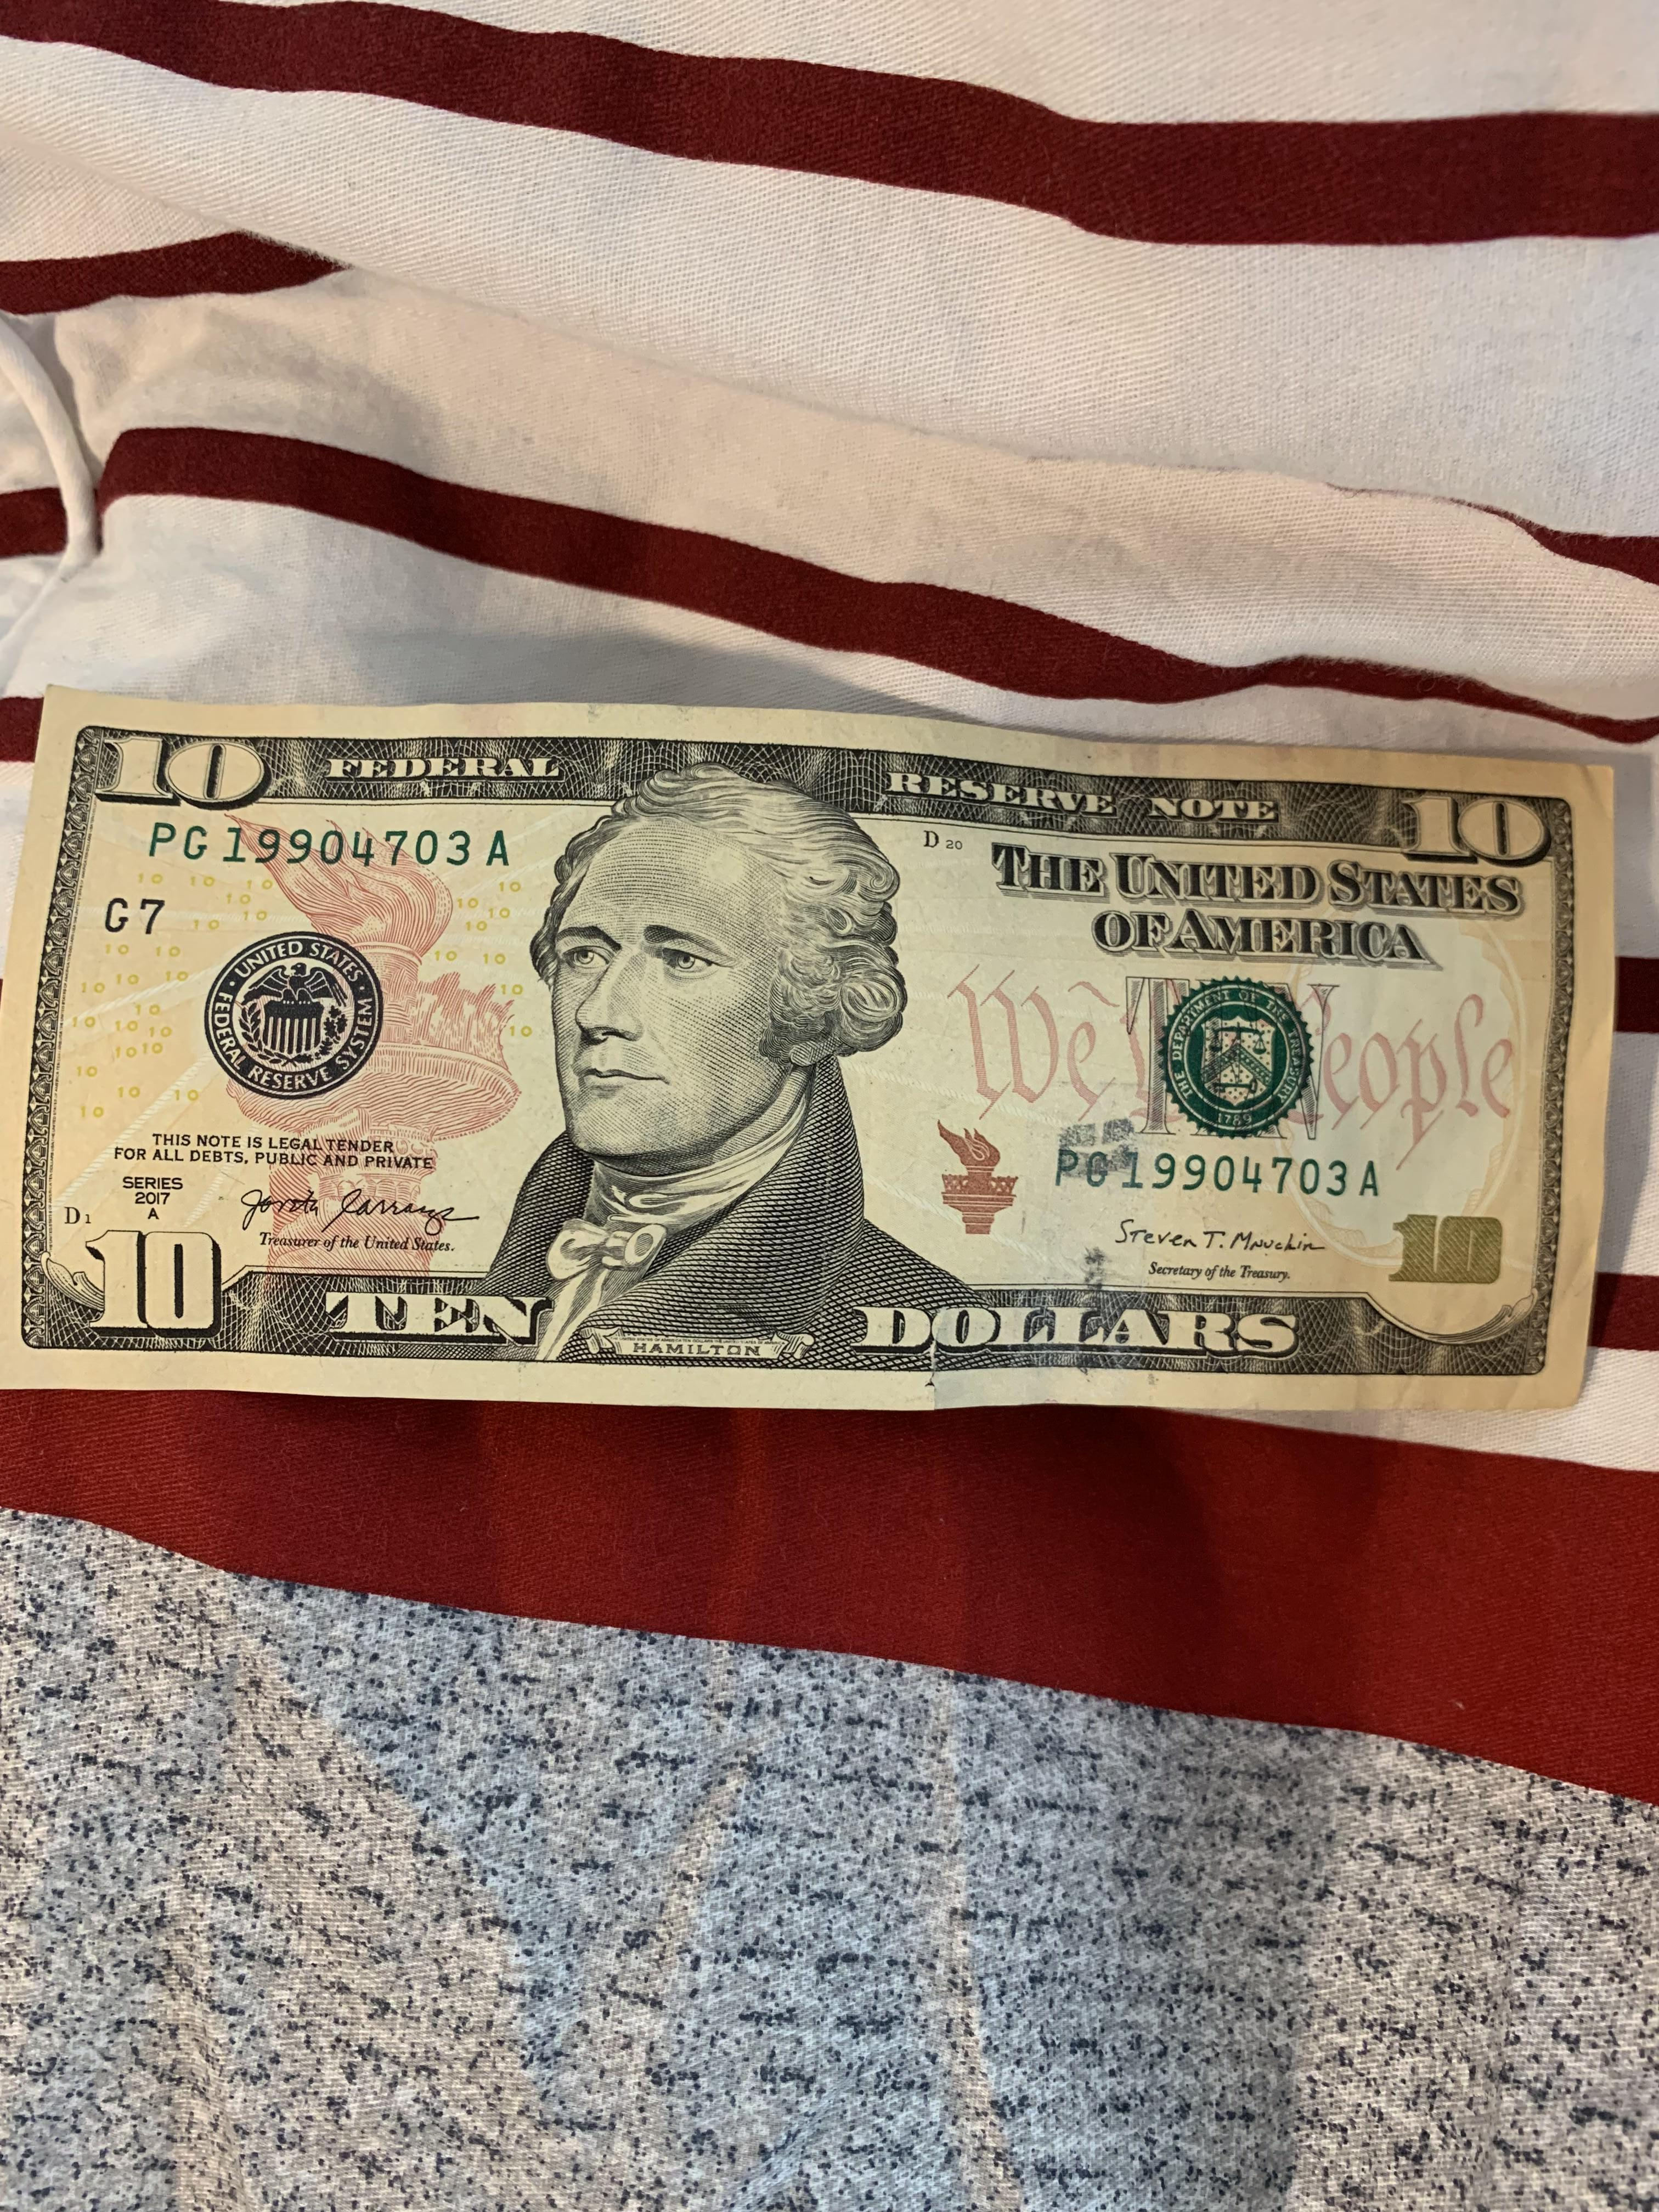TenBill: (2, 676, 1624, 1416)
